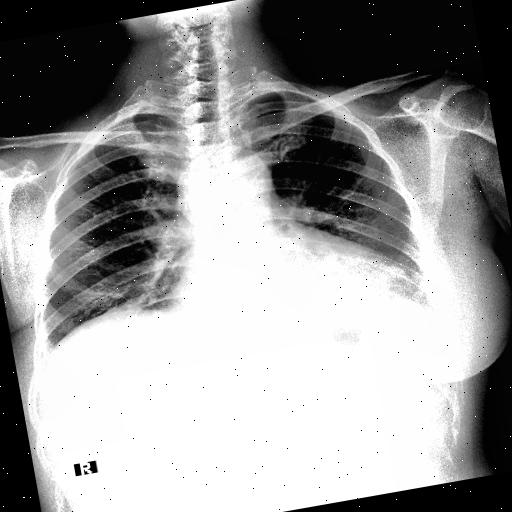3- Cardiomegaly: (162, 236, 410, 348), (162, 231, 408, 339), (170, 244, 403, 331)
7- Lung Opacity: (171, 148, 278, 228)
9- Other lesion: (171, 148, 278, 228)
